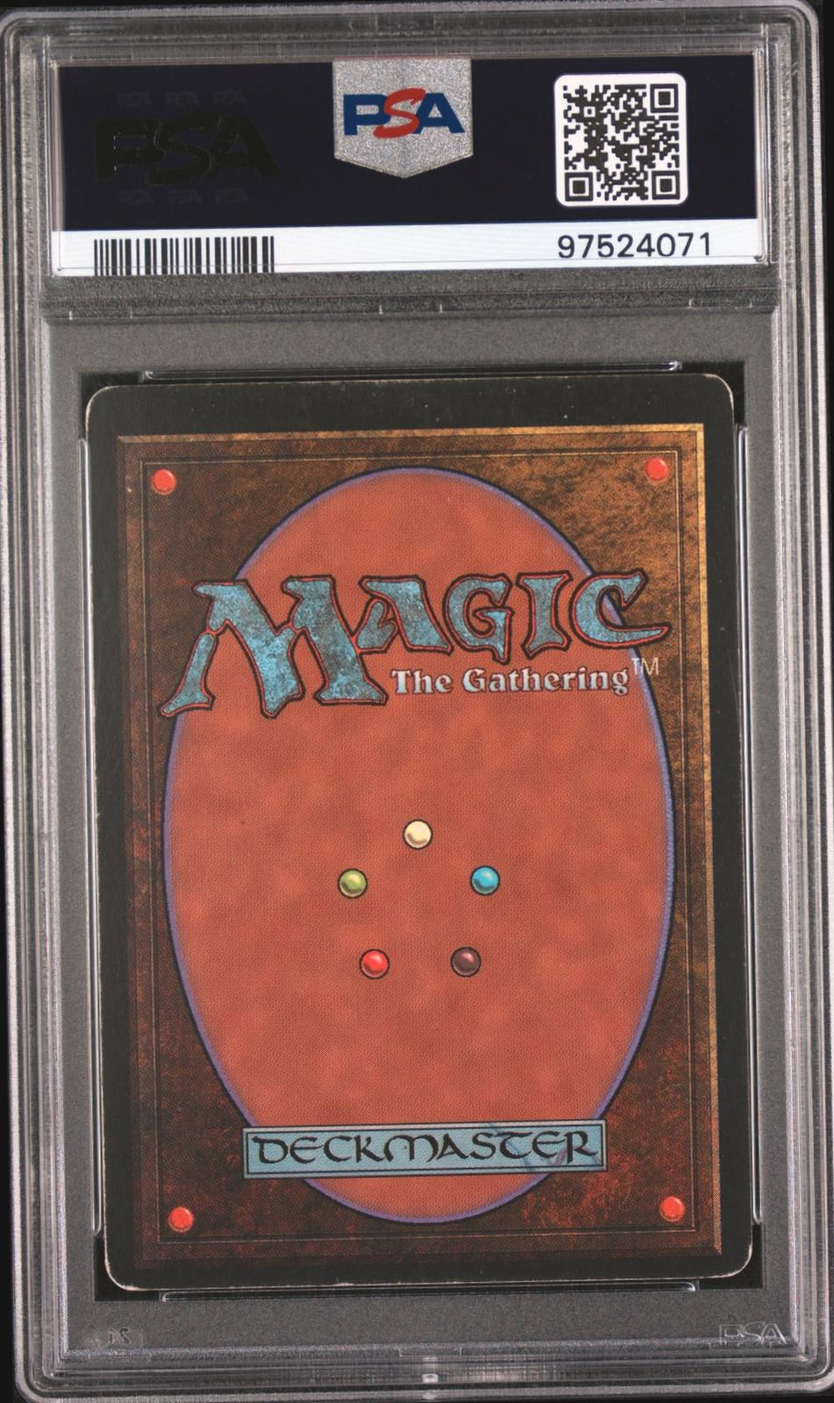card-2UtV: (85, 373, 752, 1292)
